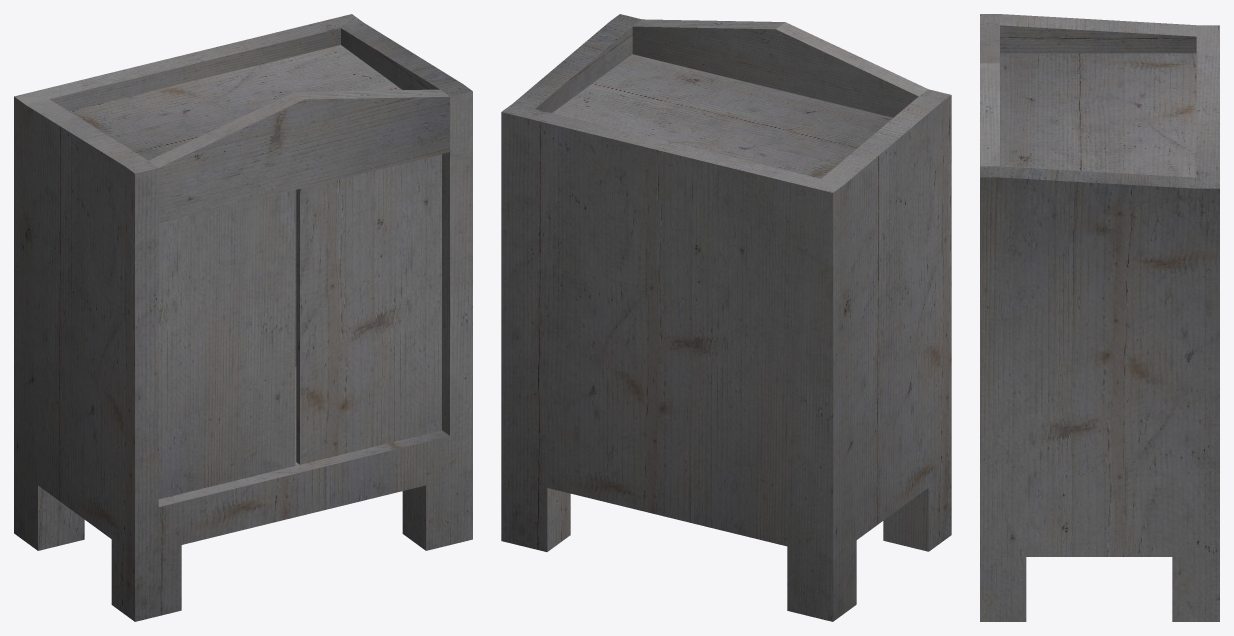
The model's file is wardrobe.glb.
3 views of the same model, side by side, from view 1: azimuth 30°, elevation 25°; view 2: azimuth 150°, elevation 25°; view 3: azimuth 270°, elevation 25° (orthographic).
Visible parts, largest first — view 1: Cube; view 2: Cube; view 3: Cube.
Part boxes in pixels (x1,y1,x2,y2): Cube: [14, 14, 472, 621]; Cube: [501, 14, 951, 621]; Cube: [980, 14, 1219, 621].
Size of the model in its own units: 1.32 by 1.8 by 0.8202.
Materials: 1 (1 with a texture image).
